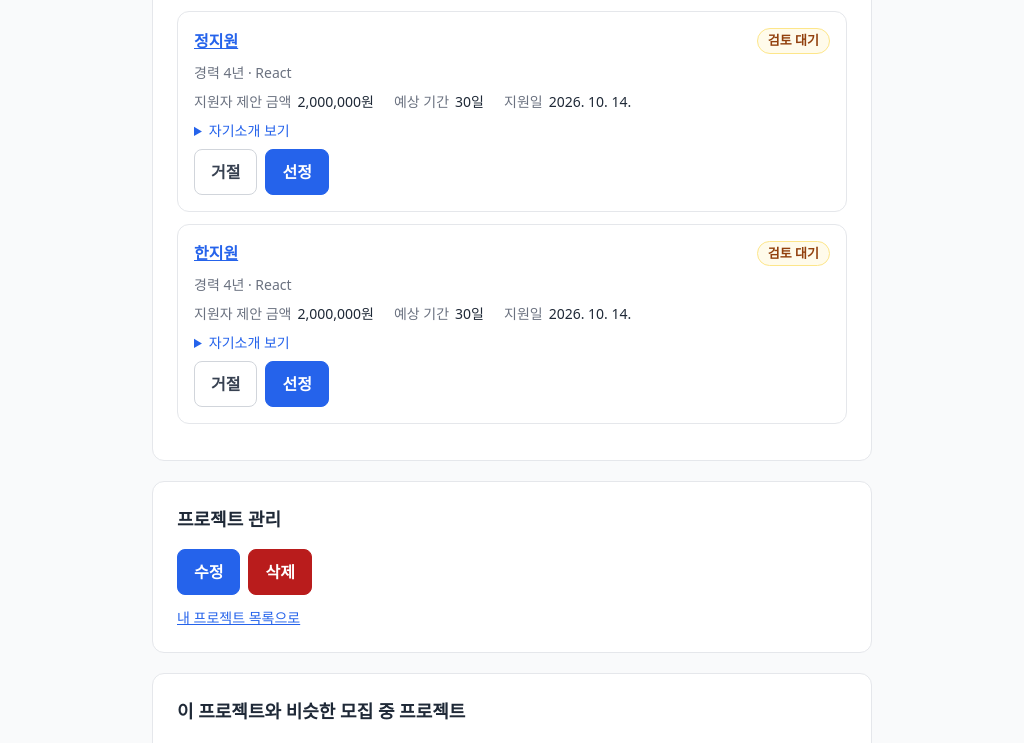
Test: applicant management on the project detail (owner) › rejects one applicant after confirming and leaves the others pending
This screenshot has width=1024, height=743.
(page scrolled)
Click the button with aria-label "한지원 거절" at (226, 384), box [194,361,258,407]
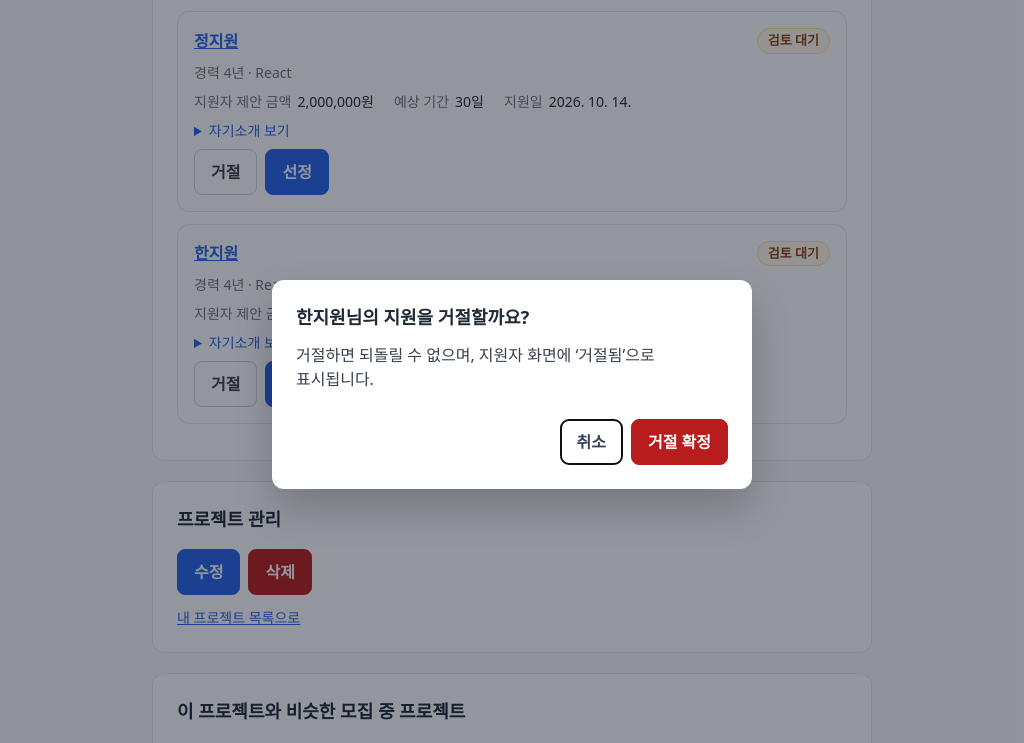
Click the button "취소" at (591, 442), box [560,418,623,464]
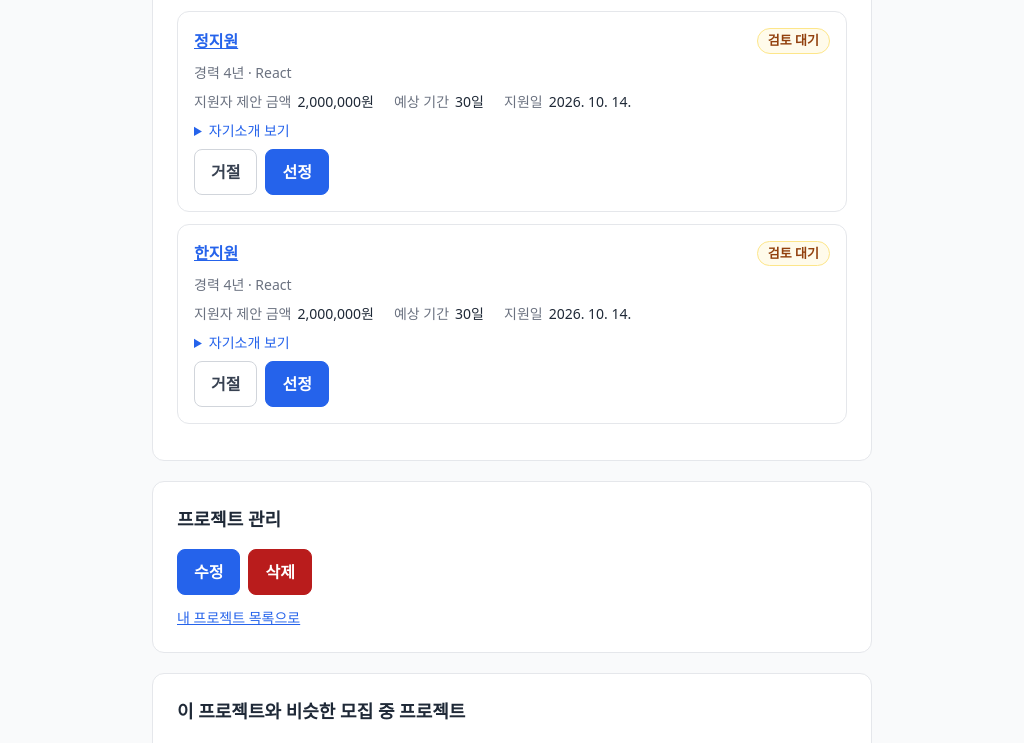
expect the dialog is gone: met
Click the button with aria-label "한지원 거절" at (226, 384), box [194,361,258,407]
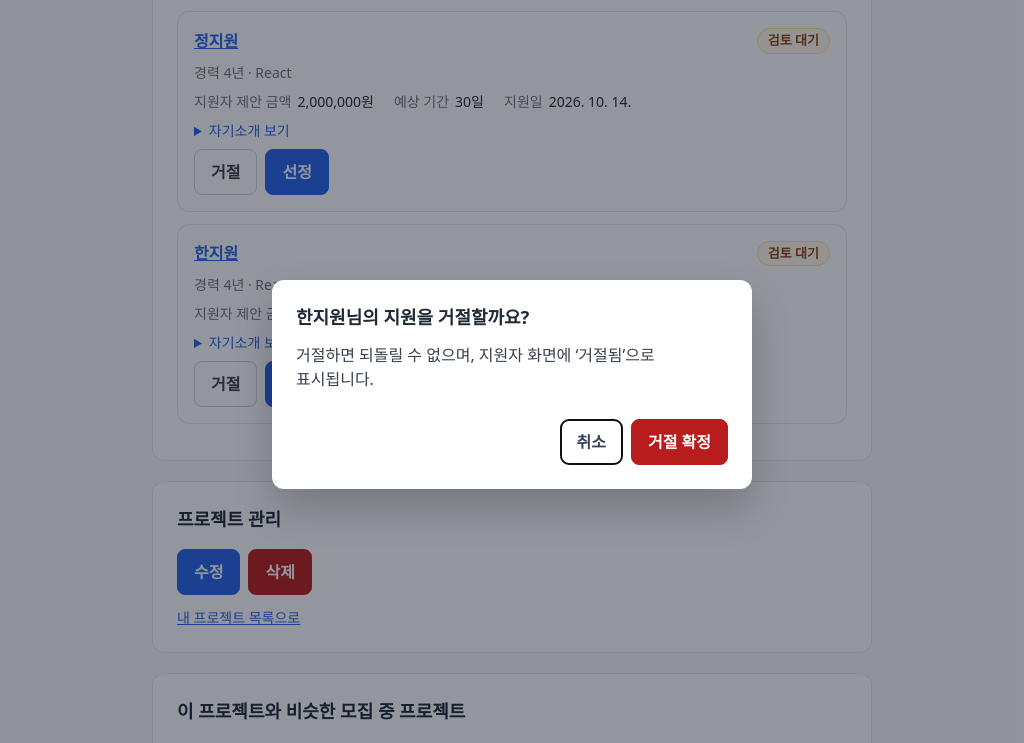
Click the button "거절 확정" at (680, 442), box [631,418,728,464]
(page scrolled)
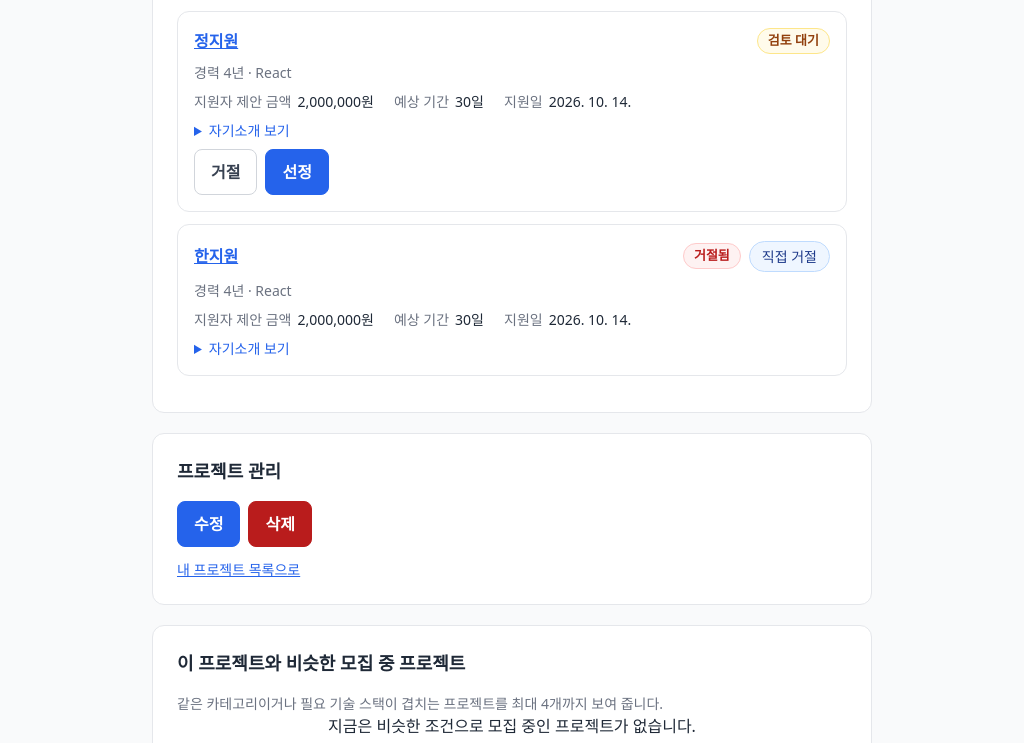
expect the button with aria-label "정지원 선정" is shown: met, box [266,148,329,194]
expect the text "직접 거절" is shown: met, box [749,240,830,272]
